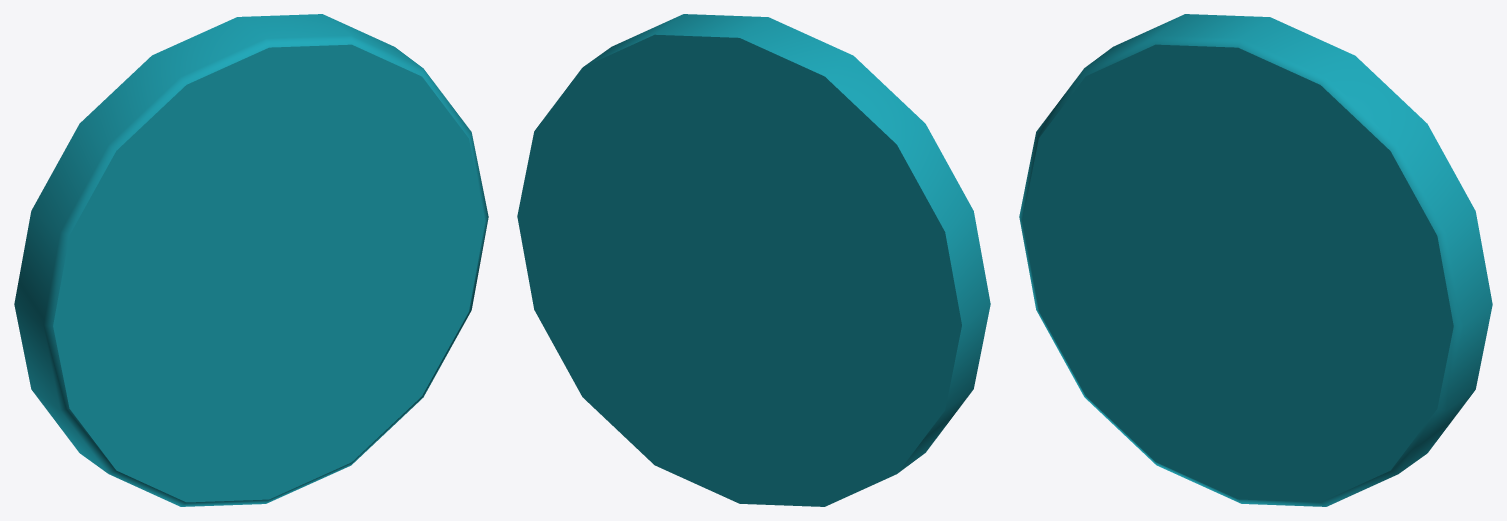
Rendered from Flipper_Button.fbx.
3 views of the same model, side by side, from view 1: azimuth 30°, elevation 25°; view 2: azimuth 150°, elevation 25°; view 3: azimuth 330°, elevation 25° (orthographic).
Parts seen in each view (by area): view 1: Flipper_Button; view 2: Flipper_Button; view 3: Flipper_Button.
Part boxes in pixels (x1,y1,x2,y2): Flipper_Button: (14,14,488,506); Flipper_Button: (517,14,990,506); Flipper_Button: (1019,14,1492,506).
Bounding box in the file's own units: 2.24 × 2.24 × 0.2839.
